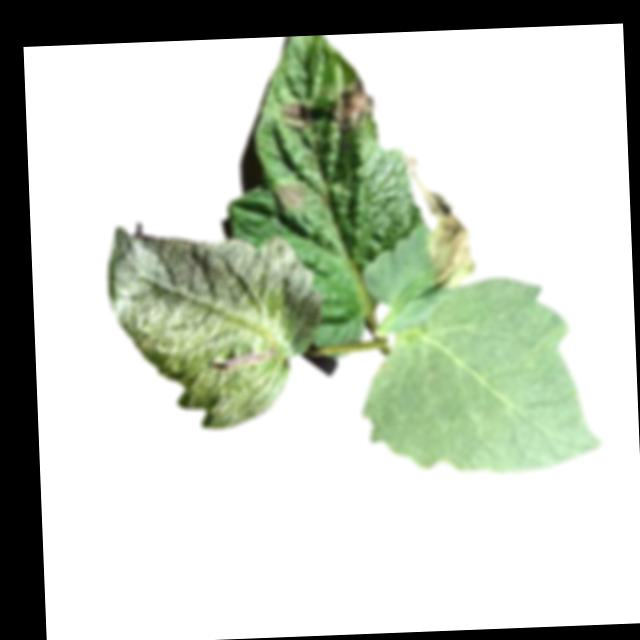Late_blight: (417, 166, 477, 289), (334, 80, 374, 135), (277, 181, 314, 210), (281, 101, 310, 127)
